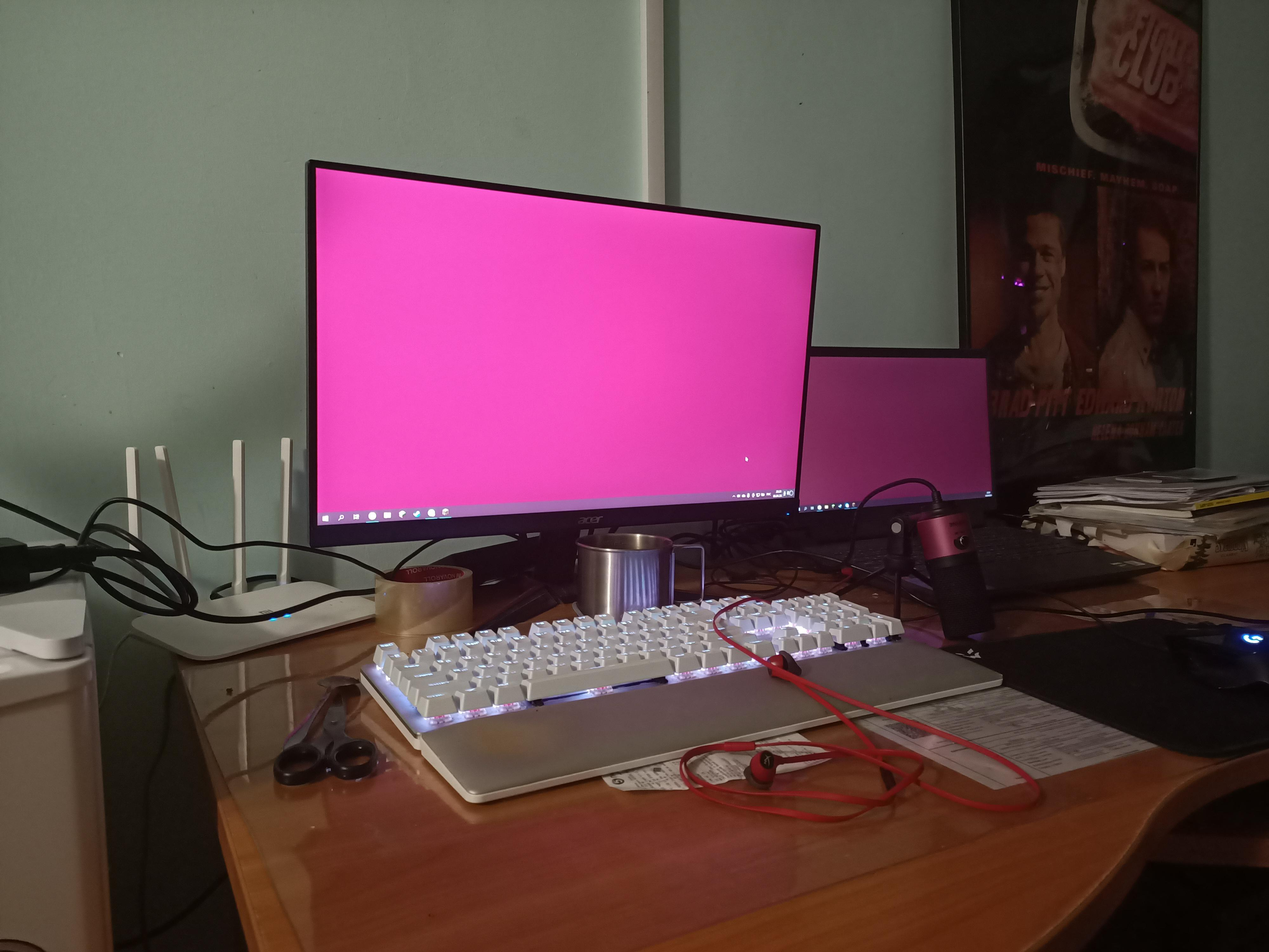monitor: (303, 157, 823, 551), (783, 344, 1000, 534)
